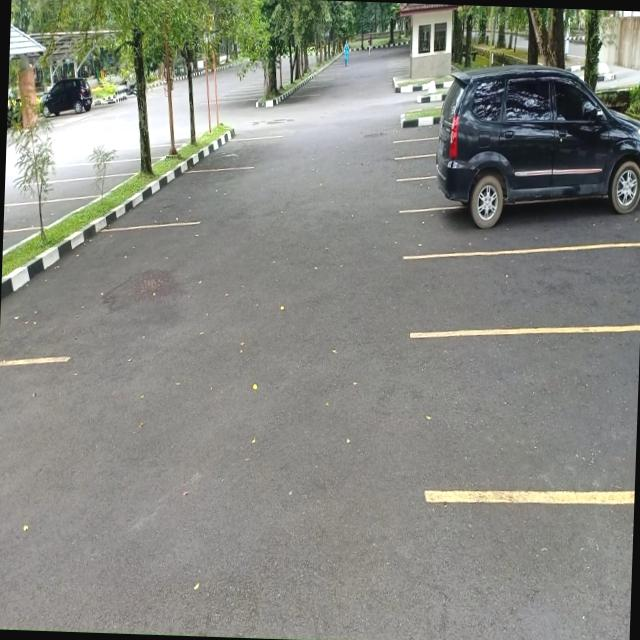car: (423, 104, 640, 259)
free: (408, 326, 640, 514), (22, 222, 184, 366), (412, 243, 640, 335), (150, 168, 244, 230), (3, 198, 75, 232), (207, 136, 274, 170), (46, 175, 108, 200), (80, 159, 140, 178)
